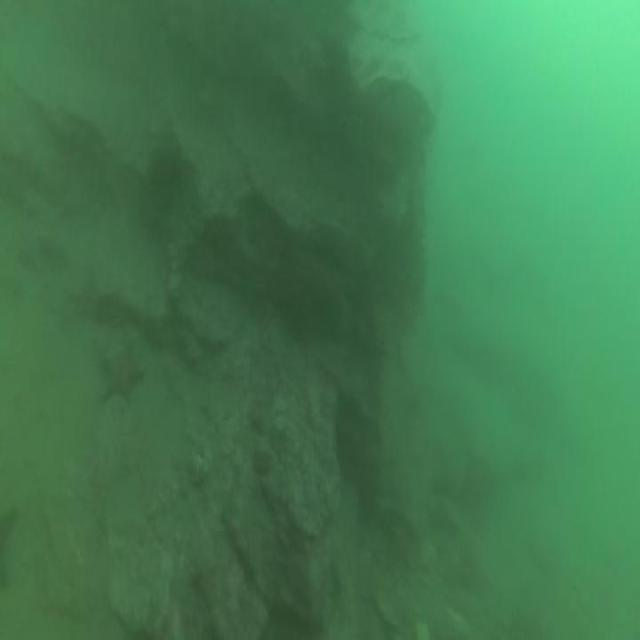echinus: (141, 138, 186, 216)
starfish: (96, 335, 148, 411)
